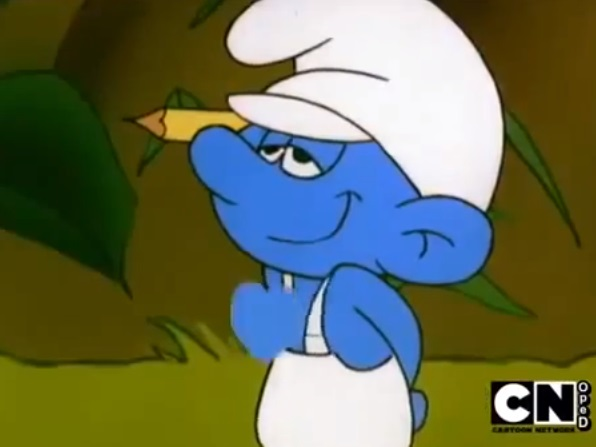smurf: (189, 1, 505, 447)
